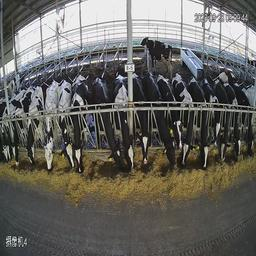cow: (91, 70, 120, 183), (157, 76, 188, 170), (132, 67, 155, 180), (113, 65, 135, 177), (187, 72, 212, 168), (57, 70, 75, 180), (72, 70, 90, 178), (135, 34, 182, 74), (26, 81, 46, 174), (46, 76, 60, 173)
